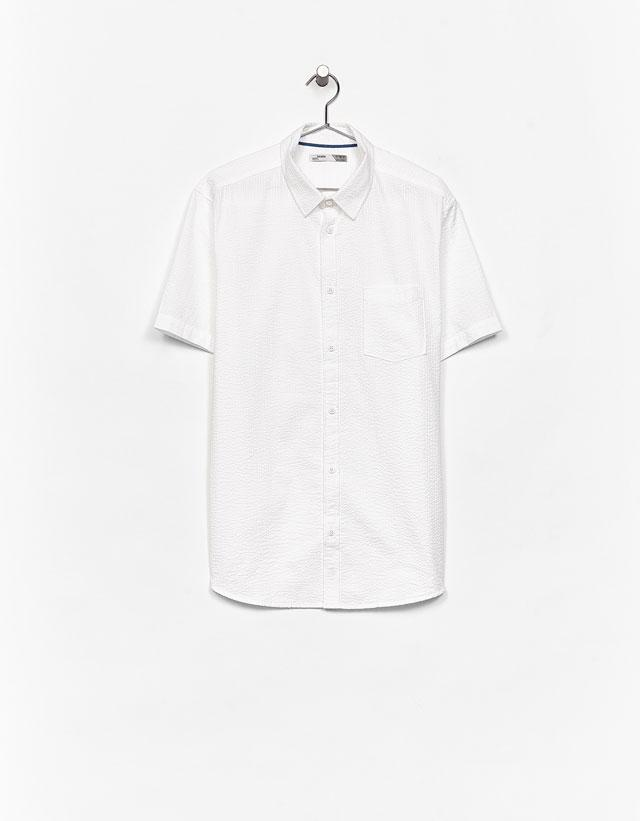teeshirt: (154, 124, 504, 622)
